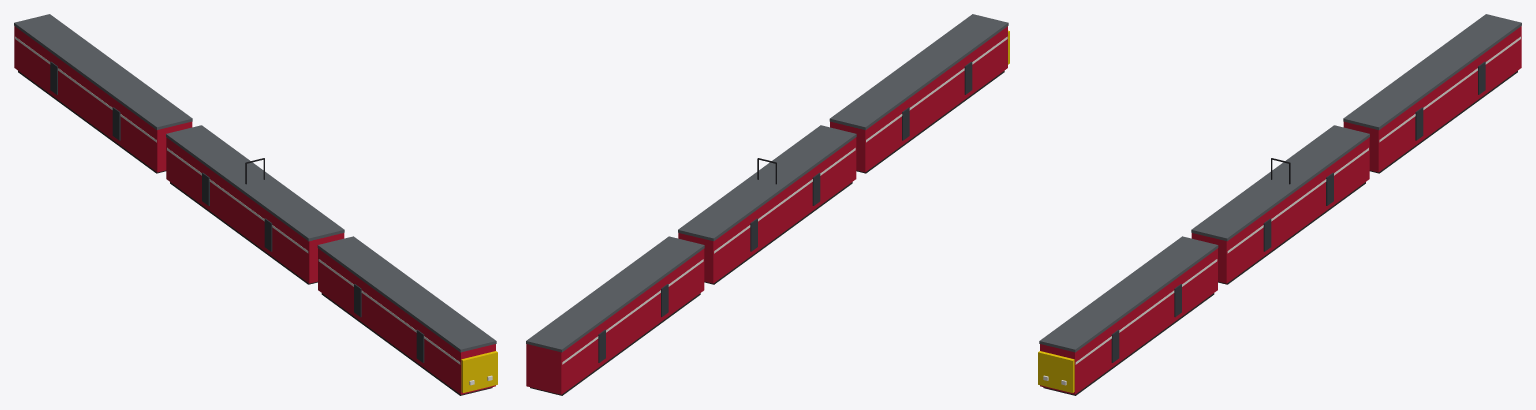
Rendered from train-swr.glb.
The picture shows the model from 3 angles, left to right: view 1: azimuth 30°, elevation 25°; view 2: azimuth 150°, elevation 25°; view 3: azimuth 330°, elevation 25°; orthographic projection.
Visible parts, largest first — view 1: train-swr; view 2: train-swr; view 3: train-swr.
Boxes of the visible parts, x1,y1,x2,y2 form: train-swr: (14,14,497,395); train-swr: (526,14,1009,395); train-swr: (1038,14,1521,395).
Size of the model in its own units: 2.88 by 5.17 by 60.38.
